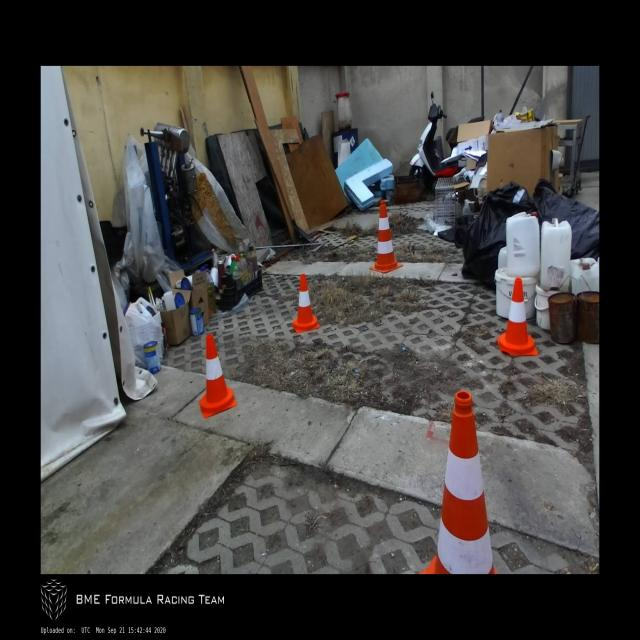large_orange_cone: (421, 392, 501, 574), (370, 200, 403, 272)
orange_cone: (498, 276, 537, 356), (199, 334, 236, 418), (291, 274, 319, 332)
